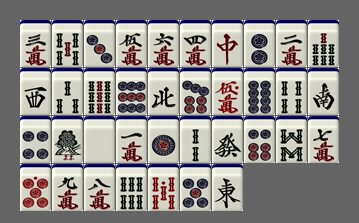0m: (212, 68, 243, 115)
0p: (20, 164, 51, 211)
0s: (148, 164, 179, 211)
1m: (116, 116, 147, 163)
1p: (148, 116, 179, 163)
1s: (52, 116, 83, 163)
1z: (212, 164, 243, 211)
2m: (276, 20, 307, 67)
2p: (244, 20, 275, 67)
2s: (180, 116, 211, 163)
2z: (308, 68, 339, 115)
3m: (20, 20, 51, 67)
3p: (84, 20, 115, 67)
3s: (52, 68, 83, 115)
3z: (20, 68, 51, 115)
4m: (180, 20, 211, 67)
4p: (20, 116, 51, 163)
4s: (276, 68, 307, 115)
4z: (148, 68, 179, 115)
5m: (116, 20, 147, 67)
5p: (180, 164, 211, 211)
5s: (52, 20, 83, 67)
5z: (84, 116, 115, 163)
6m: (148, 20, 179, 67)
6p: (244, 116, 275, 163)
6s: (116, 164, 147, 211)
6z: (212, 116, 243, 163)
7m: (308, 116, 339, 163)
7p: (180, 68, 211, 115)
7s: (308, 20, 339, 67)
7z: (212, 20, 243, 67)
8m: (84, 164, 115, 211)
8p: (244, 68, 275, 115)
8s: (276, 116, 307, 163)
9m: (52, 164, 83, 211)
9p: (116, 68, 147, 115)
9s: (84, 68, 115, 115)
